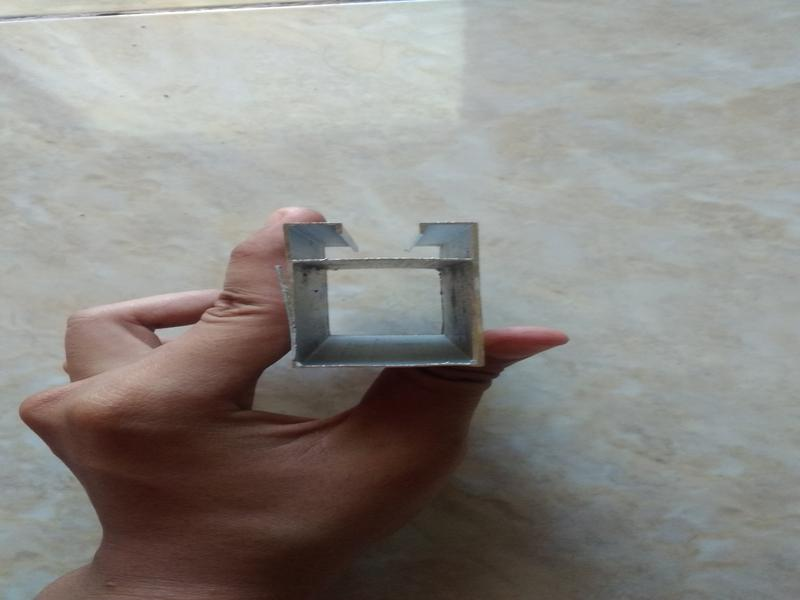Aluminium_1: (272, 201, 500, 372)
